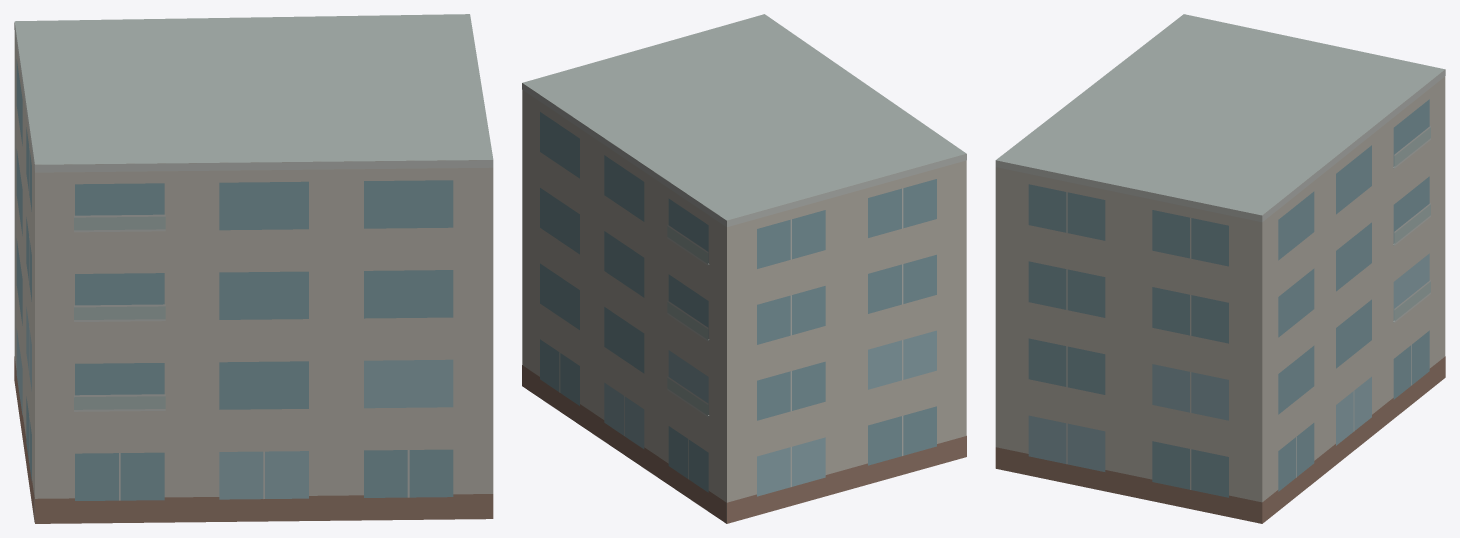
The model's file is survey-upis-32963846.glb.
The picture shows the model from 3 angles, left to right: view 1: azimuth 30°, elevation 25°; view 2: azimuth 150°, elevation 25°; view 3: azimuth 270°, elevation 25°; orthographic projection. The views are drawn at different scales.
Visible parts, largest first — view 1: survey-upis-32963846.tmp; view 2: survey-upis-32963846.tmp; view 3: survey-upis-32963846.tmp.
Boxes of the visible parts, left/top/right/bottom form: survey-upis-32963846.tmp: left=14, top=14, right=493, bottom=523; survey-upis-32963846.tmp: left=522, top=14, right=966, bottom=523; survey-upis-32963846.tmp: left=995, top=14, right=1445, bottom=523.
Bounding box in the file's own units: 15.49 × 11.05 × 14.62.
